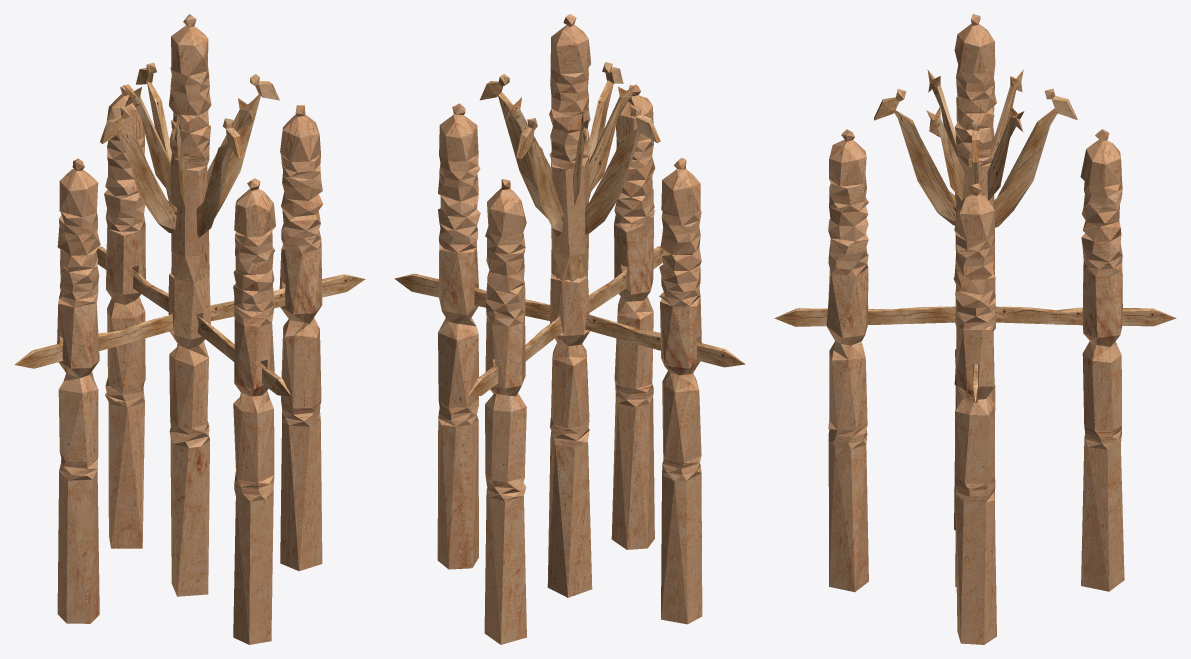
The model's file is serge.glb.
3 renders of one model, left to right at view 1: azimuth 30°, elevation 25°; view 2: azimuth 150°, elevation 25°; view 3: azimuth 270°, elevation 25°, orthographic.
Parts seen in each view (by area): view 1: Тула сэргэлэр; view 2: Тула сэргэлэр; view 3: Тула сэргэлэр.
Boxes of the visible parts, <box> form: Тула сэргэлэр: <box>14,14,365,644</box>; Тула сэргэлэр: <box>394,14,745,644</box>; Тула сэргэлэр: <box>774,14,1176,644</box>.
Size of the model in its own units: 3.77 by 5.87 by 3.77.
2 materials, 2 textured.
